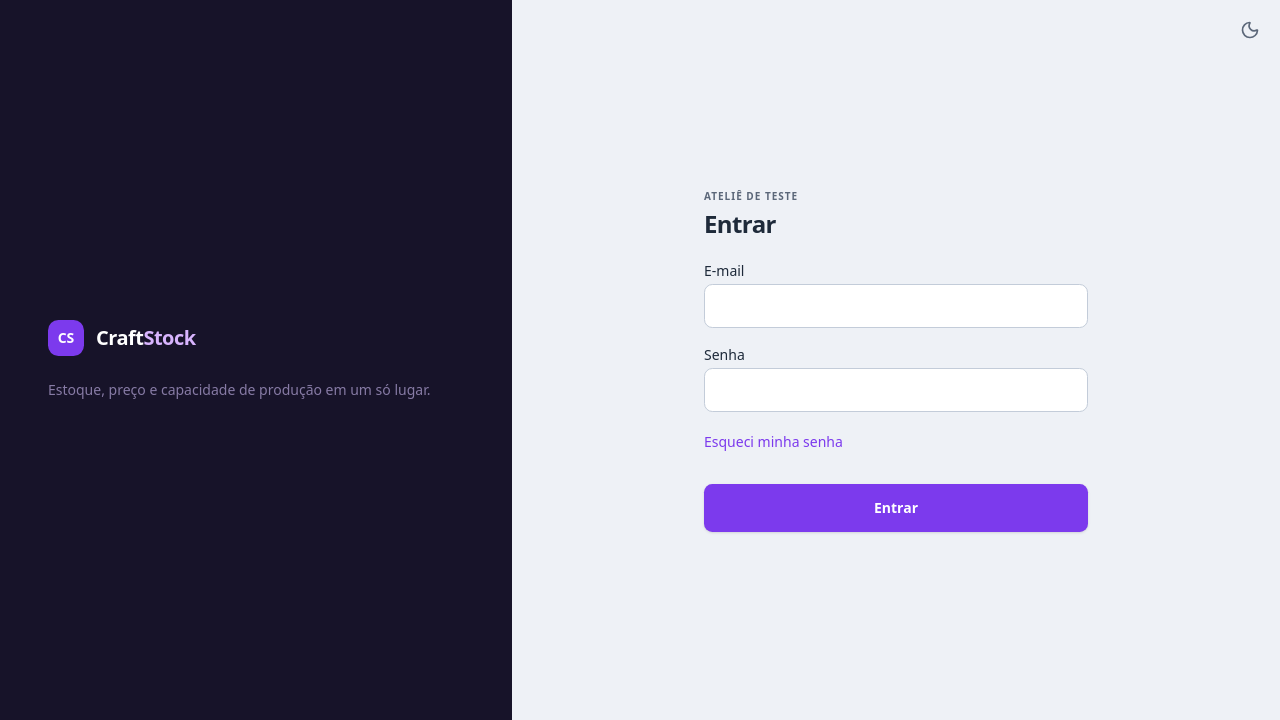
Test case: signing in › shows a wrong password on the form, in Portuguese, and stays on the login
This screenshot has width=1280, height=720.
Expected: the heading "Entrar" is shown, x1=704 y1=206 x2=776 y2=240
Type "marina@exemplo.com.br" into the field labelled "E-mail".
click(896, 306); type("marina@exemplo.com.br")  # box x1=704 y1=284 x2=1088 y2=328
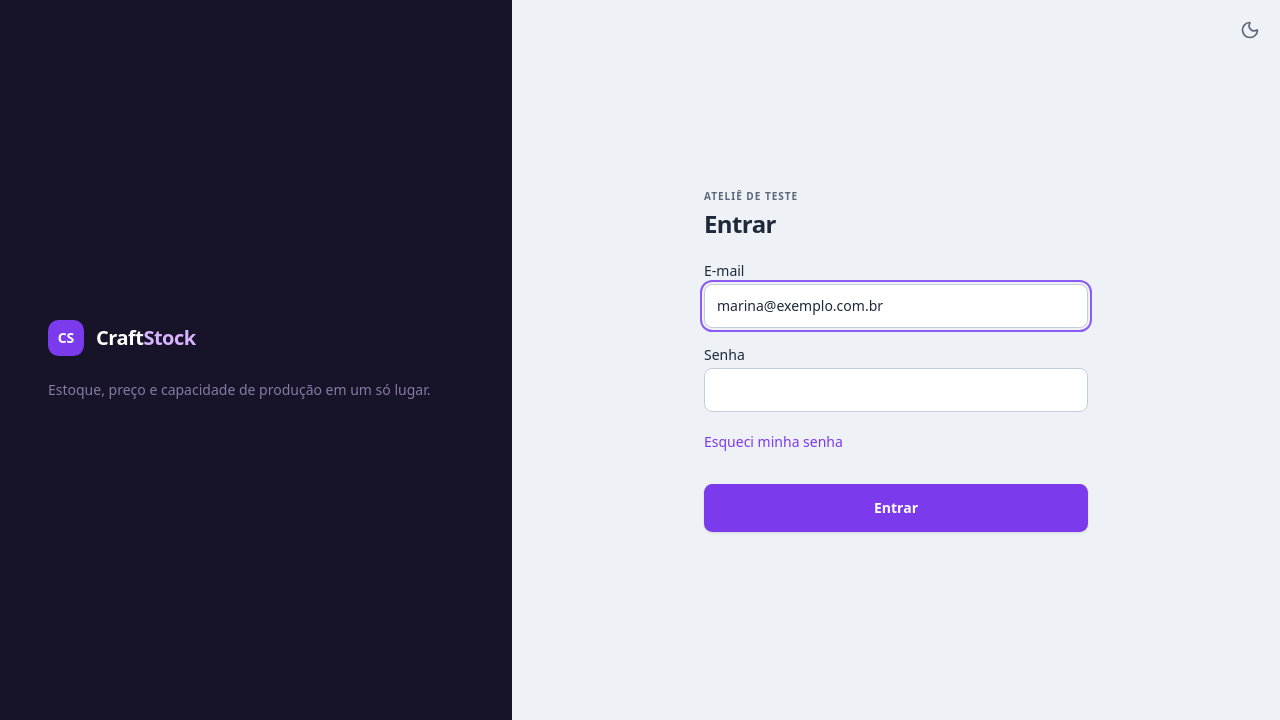
Type "senha-errada" into the password field labelled "Senha".
click(896, 390); type("senha-errada")  # box x1=704 y1=368 x2=1088 y2=412
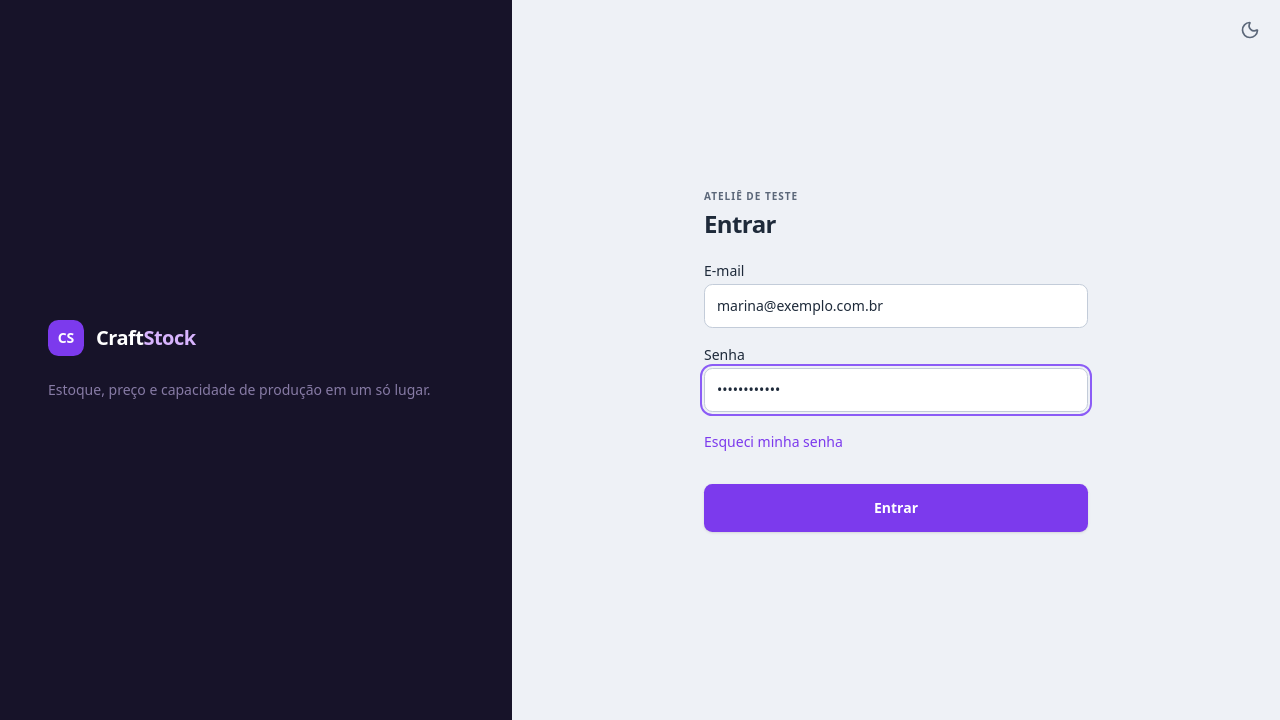
Click the button "Entrar".
click(896, 508)  # box x1=704 y1=484 x2=1088 y2=532
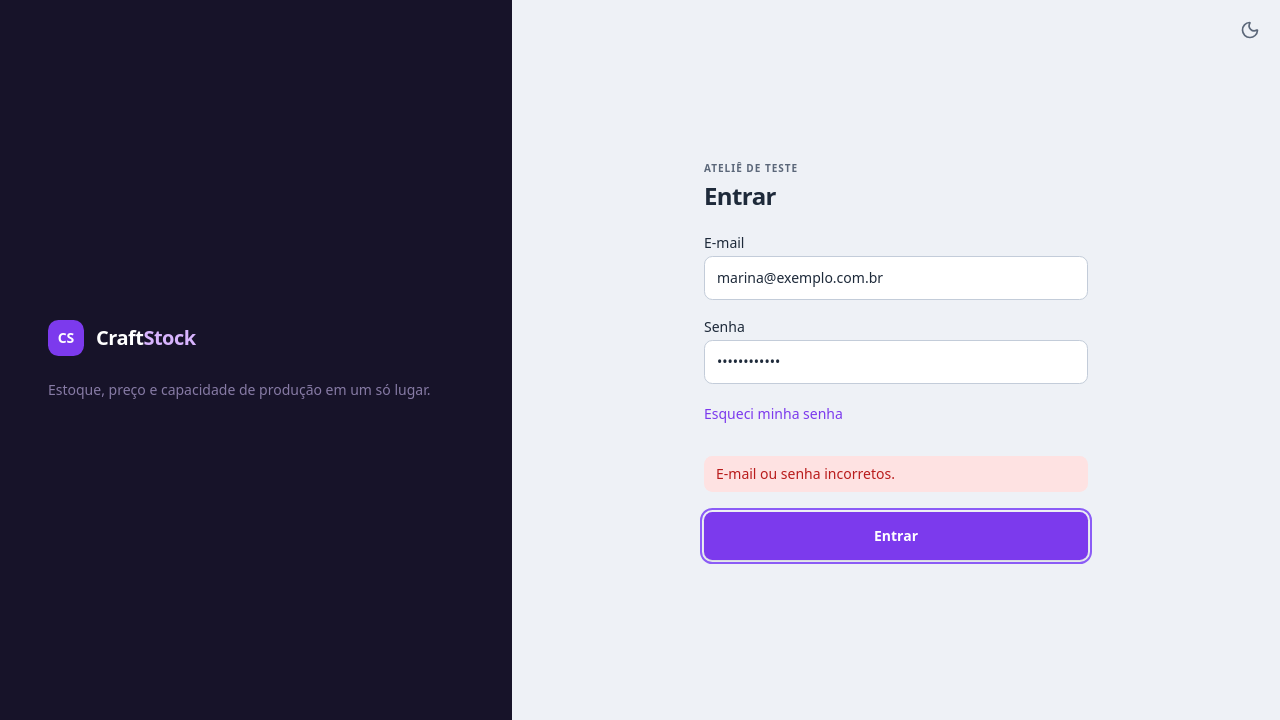
Now the message reads "E-mail ou senha incorretos.", box x1=716 y1=464 x2=895 y2=482
